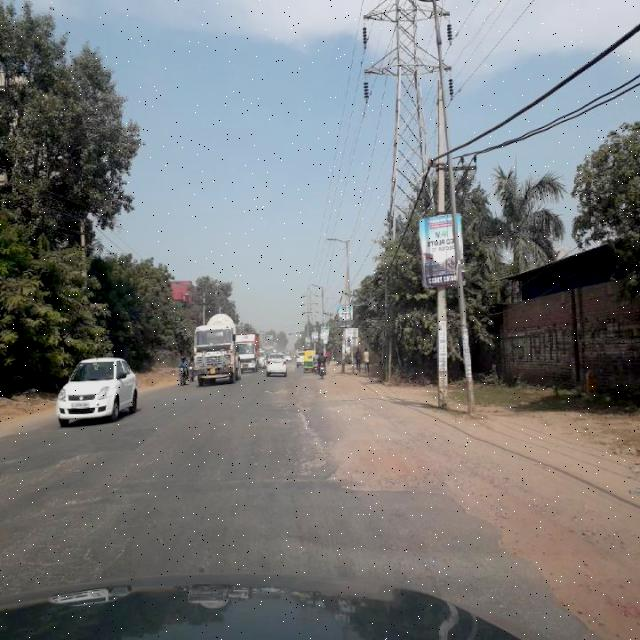D00: (522, 556, 609, 633), (432, 477, 519, 554), (292, 384, 346, 476)
D40: (330, 428, 444, 498), (492, 506, 562, 578)
